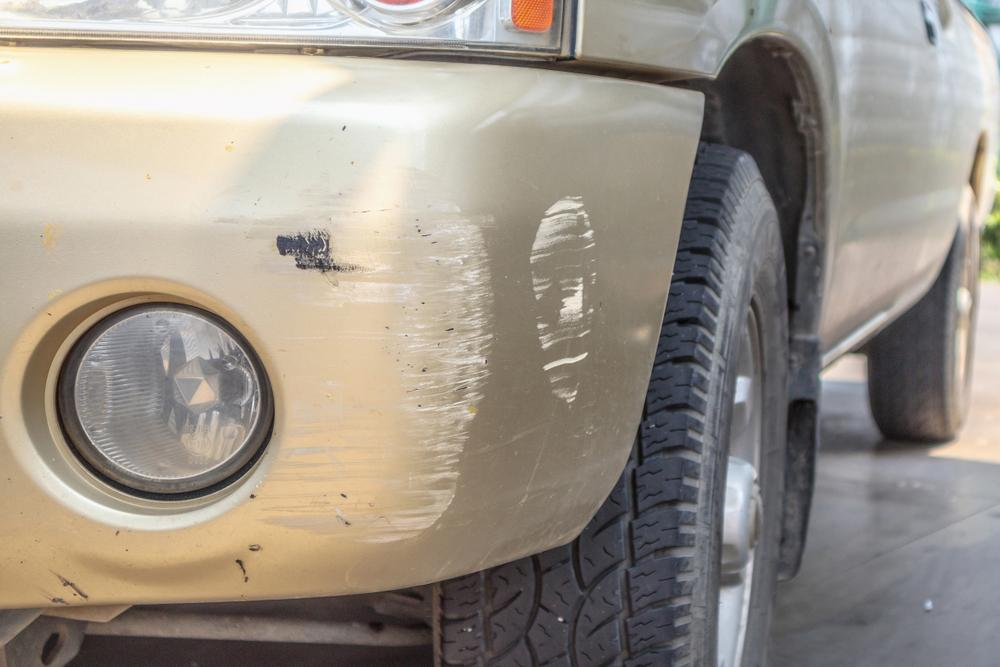scratch: (225, 167, 500, 546), (526, 192, 604, 406)
